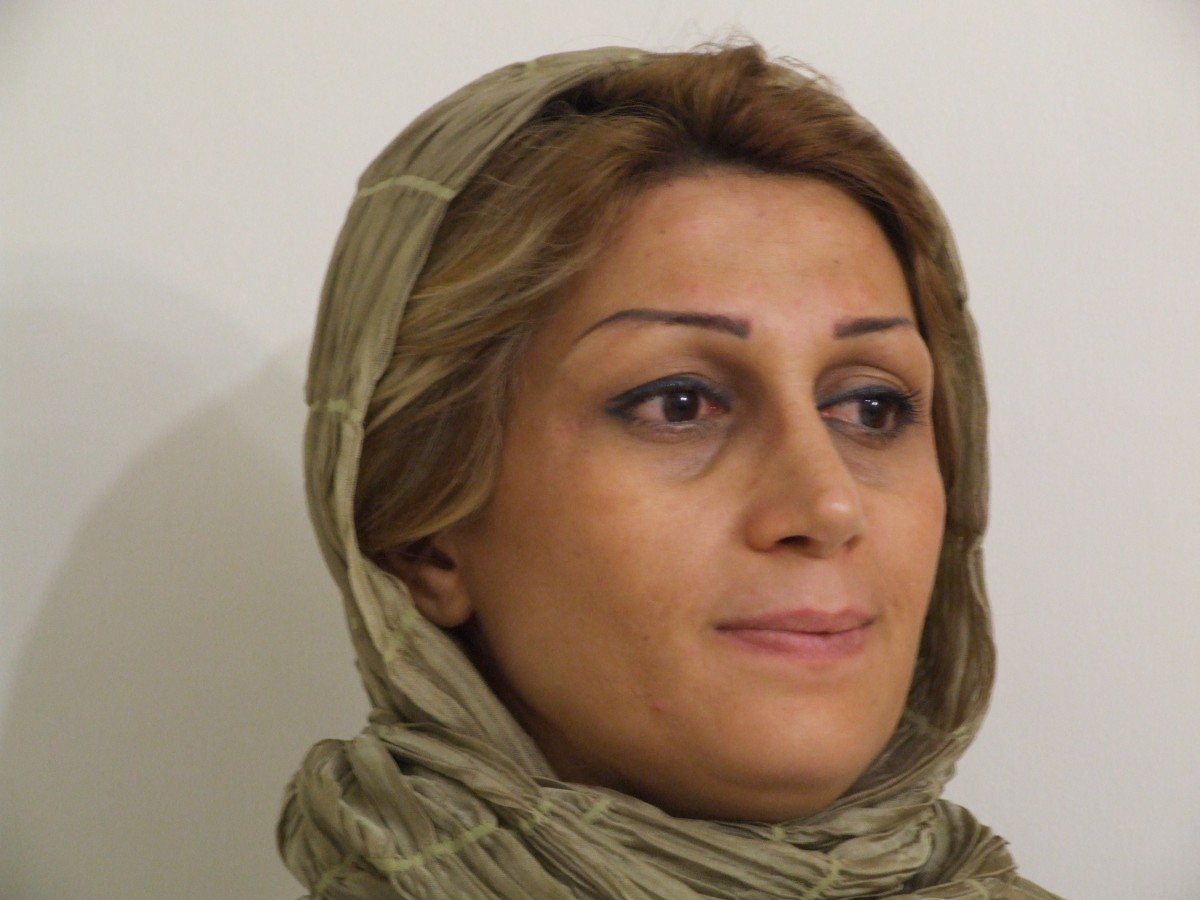occhiaia: (598, 426, 748, 494), (822, 419, 930, 488)
